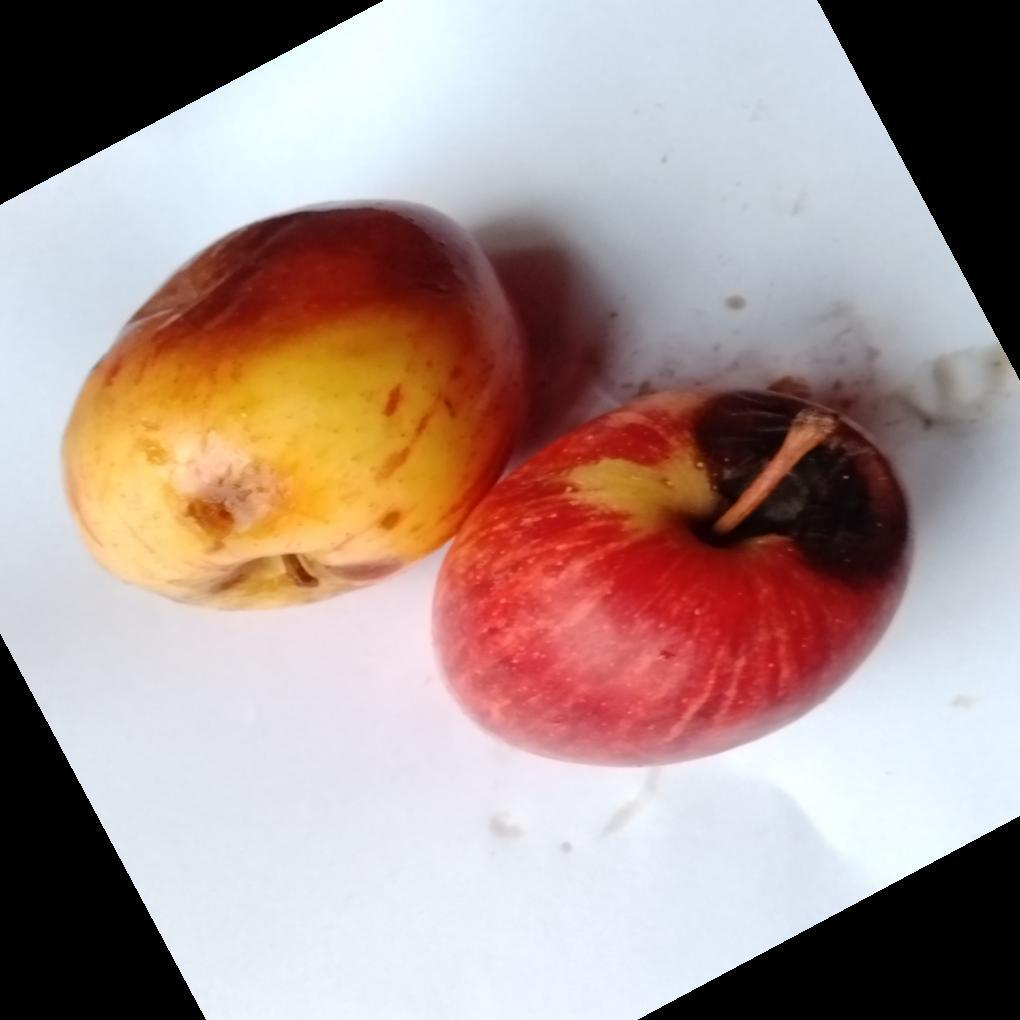FreshOrange: (60, 201, 901, 768)
